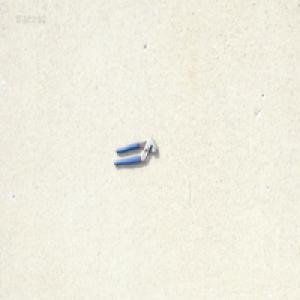Pliers: (112, 136, 158, 167)
